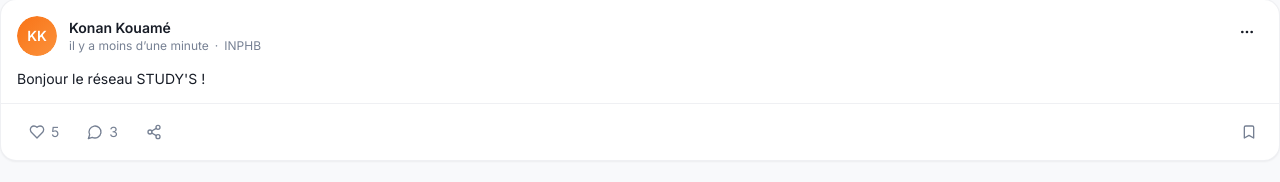
Test: PostCard › affiche toujours le bouton Signaler
The width and height of the screenshot is (1280, 182).
Click the button without text in the row of "INPHB": [1247, 32] box [1231,16,1263,48]
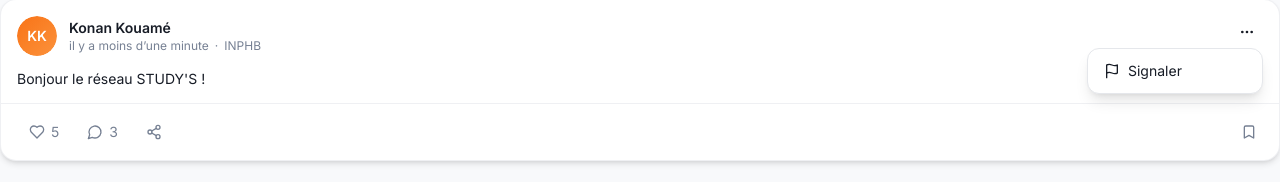
Now the button "Signaler" is shown, box [1092,53,1258,89]
